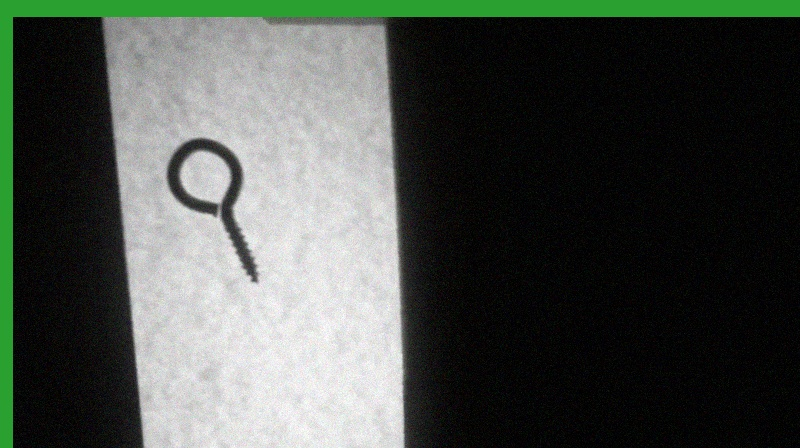O001: (160, 133, 261, 285)
